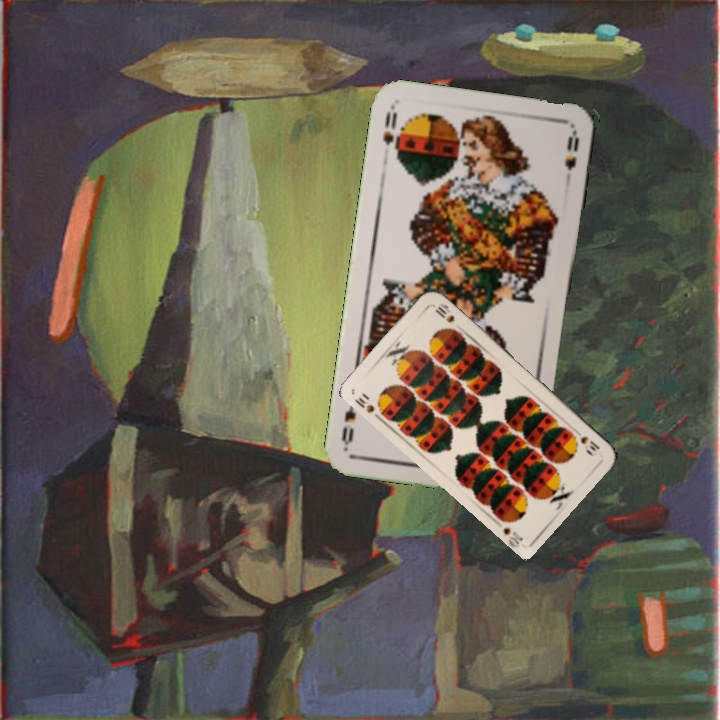S10: (576, 432, 603, 454), (350, 394, 377, 416)
SO: (378, 103, 401, 152)
